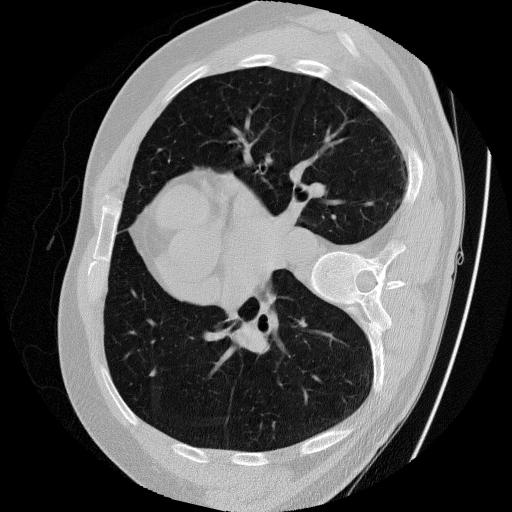nodule: (145, 368, 159, 382)
